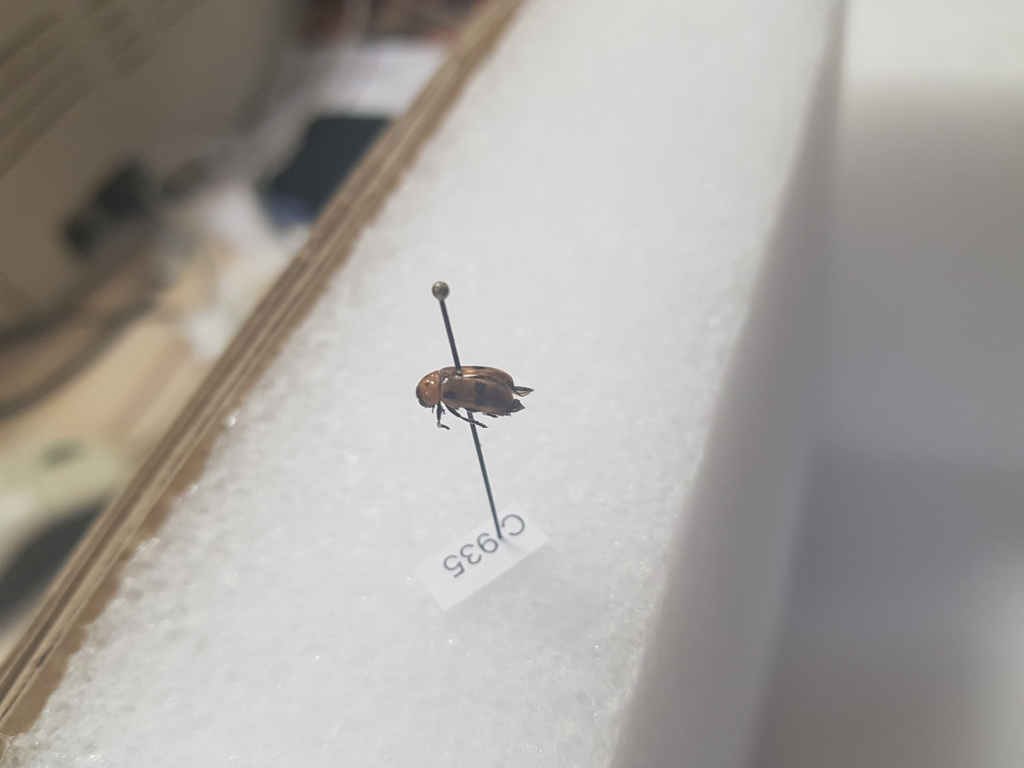Clytra_novempunctata: (416, 361, 533, 422)
